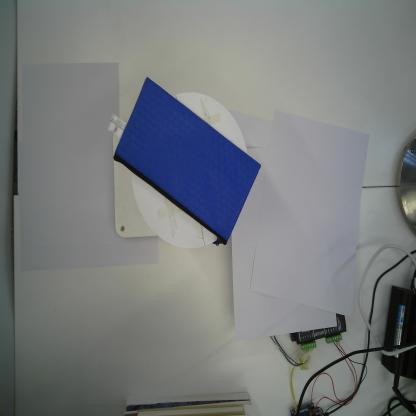Stationery: (113, 76, 262, 246)
